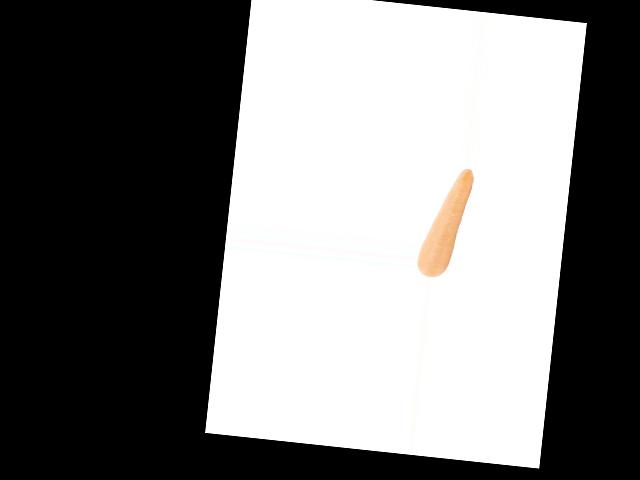carrot: (418, 162, 479, 262)
